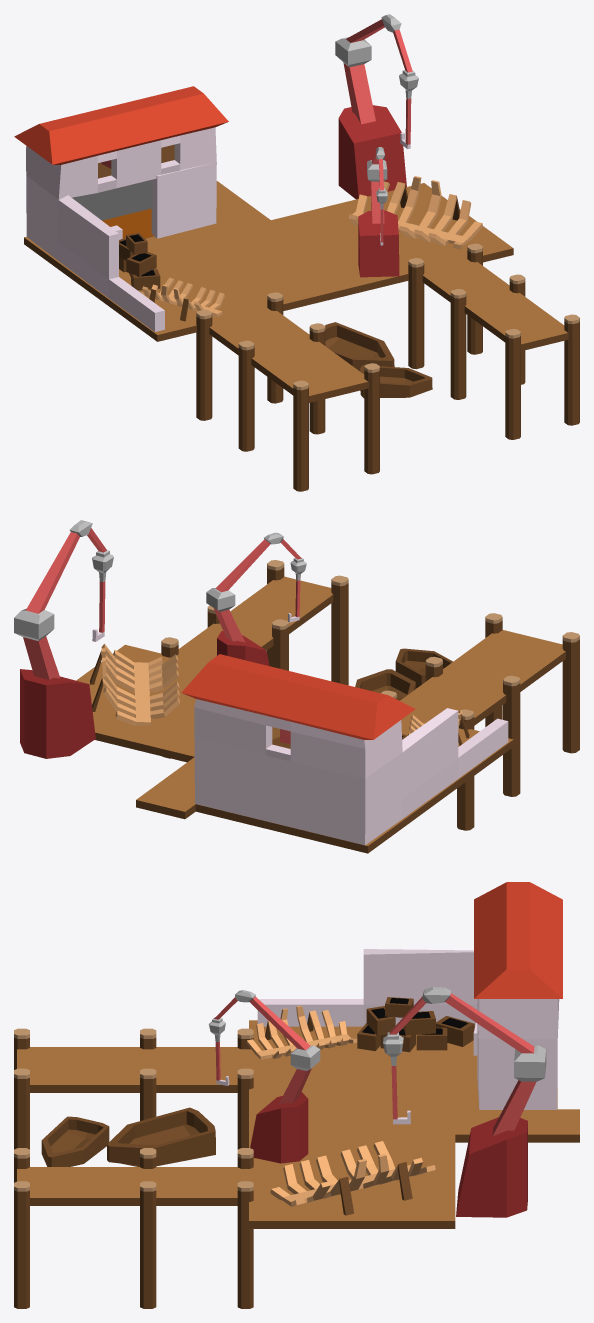
The model's file is MilitaryDock.fbx.
The picture shows the model from 3 angles, top to bottom: view 1: azimuth 30°, elevation 25°; view 2: azimuth 150°, elevation 25°; view 3: azimuth 270°, elevation 25°; orthographic projection. The views are drawn at different scales.
Parts seen in each view (by area): view 1: Boat; view 2: Boat; view 3: Boat.
Boxes of the visible parts, x1,y1,x2,y2 form: Boat: (14,14,579,491); Boat: (14,520,579,853); Boat: (14,882,579,1308).
Bounding box in the file's own units: 167 × 120 × 195.
